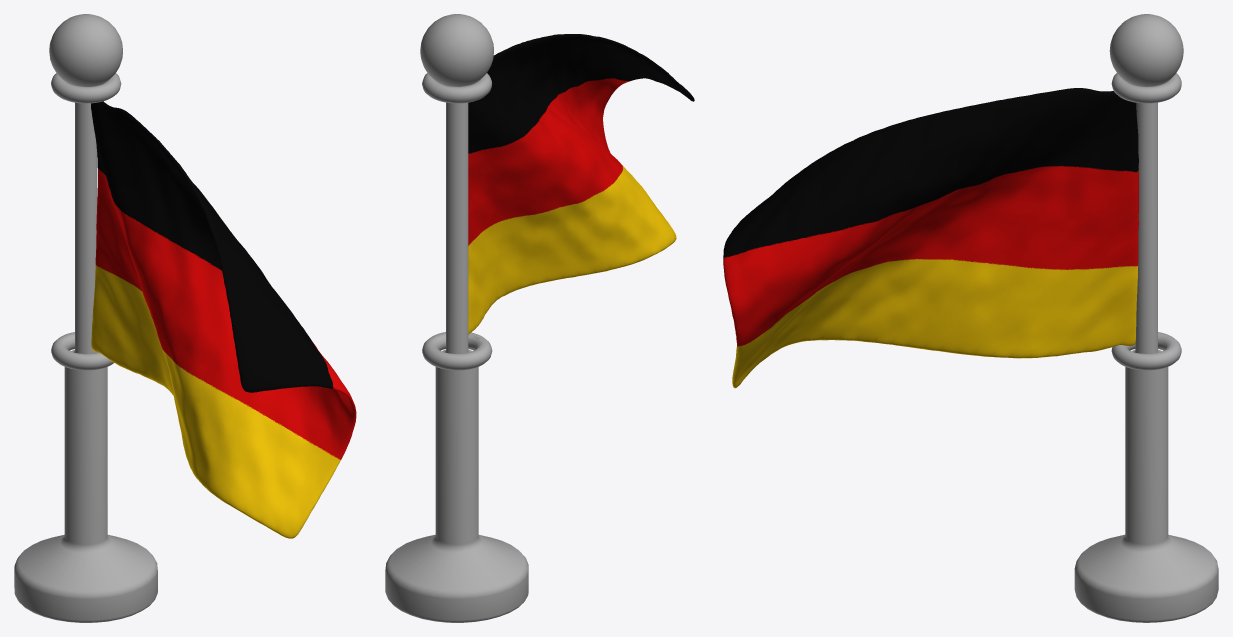
3 renders of one model, left to right at view 1: azimuth 30°, elevation 25°; view 2: azimuth 150°, elevation 25°; view 3: azimuth 270°, elevation 25°, orthographic.
Visible parts, largest first — view 1: Flag ShapeKeys_2_4, Circle, Sphere, Torus.002, Torus.001; view 2: Flag ShapeKeys_2_4, Circle, Sphere, Torus.001, Torus.002; view 3: Flag ShapeKeys_2_4, Circle, Sphere, Torus.001, Torus.002.
Boxes of the visible parts, bbox=[...] form: Flag ShapeKeys_2_4: bbox=[91, 101, 356, 538]; Circle: bbox=[14, 102, 157, 622]; Sphere: bbox=[49, 14, 122, 86]; Torus.002: bbox=[51, 73, 121, 103]; Torus.001: bbox=[51, 332, 113, 370]; Flag ShapeKeys_2_4: bbox=[468, 34, 694, 334]; Circle: bbox=[385, 102, 528, 622]; Sphere: bbox=[420, 14, 493, 86]; Torus.001: bbox=[422, 332, 492, 370]; Torus.002: bbox=[422, 73, 492, 103]; Flag ShapeKeys_2_4: bbox=[723, 88, 1138, 388]; Circle: bbox=[1074, 102, 1218, 622]; Sphere: bbox=[1109, 14, 1183, 86]; Torus.001: bbox=[1111, 332, 1181, 370]; Torus.002: bbox=[1111, 73, 1181, 103].
Size of the model in its own units: 0.9495 by 4.15 by 3.23.
Materials: 3 (1 with a texture image).
